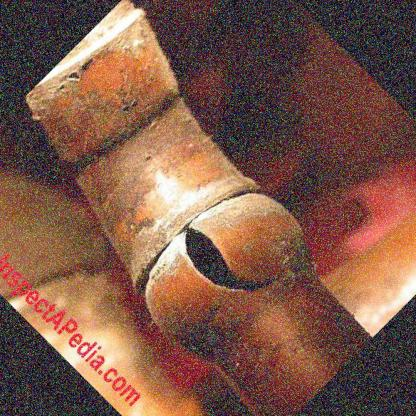burst: (174, 213, 294, 316)
